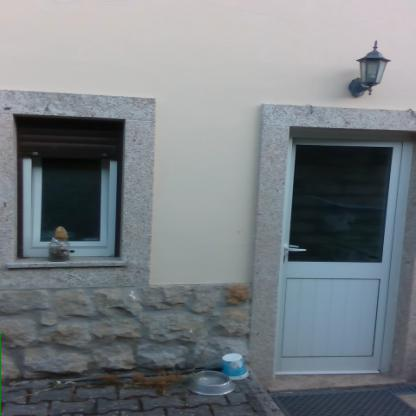closed: (249, 106, 415, 388)
